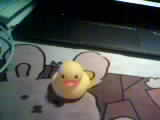duck: (51, 58, 97, 100)
